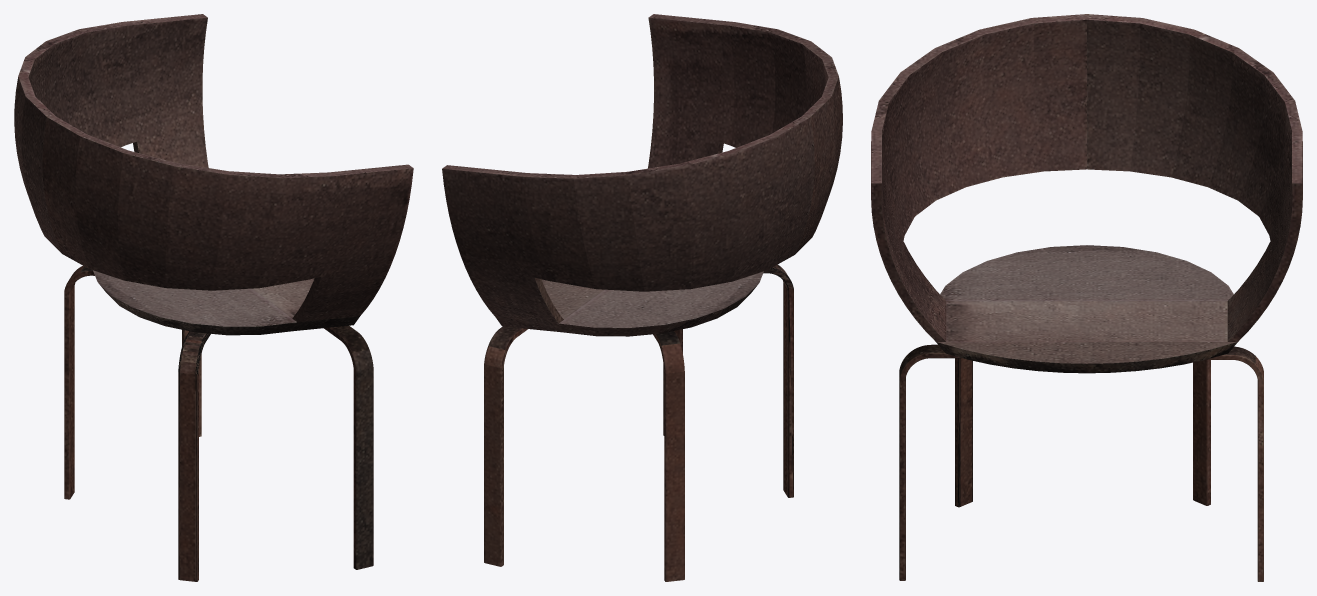
3 views of the same model, side by side, from view 1: azimuth 30°, elevation 25°; view 2: azimuth 150°, elevation 25°; view 3: azimuth 270°, elevation 25° (orthographic). The views are drawn at different scales.
Parts seen in each view (by area): view 1: Node; view 2: Node; view 3: Node.
Boxes of the visible parts, <box> form: Node: <box>14,14,413,581</box>; Node: <box>442,14,842,581</box>; Node: <box>871,14,1302,581</box>.
Size of the model in its own units: 0.4802 by 0.7 by 0.6098.
Materials: 1 (1 with a texture image).
